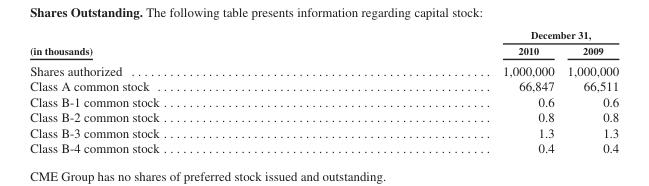table: (29, 28, 618, 154)
table column: (29, 28, 330, 154), (330, 28, 560, 154), (560, 28, 618, 154)
table column header: (29, 28, 618, 59)
table row: (29, 59, 618, 77), (29, 42, 618, 59), (29, 77, 618, 93), (29, 108, 618, 124), (29, 93, 618, 108), (29, 124, 618, 139), (29, 139, 618, 154), (29, 28, 618, 42)
table spanning cell: (29, 28, 330, 59), (330, 28, 618, 42)
